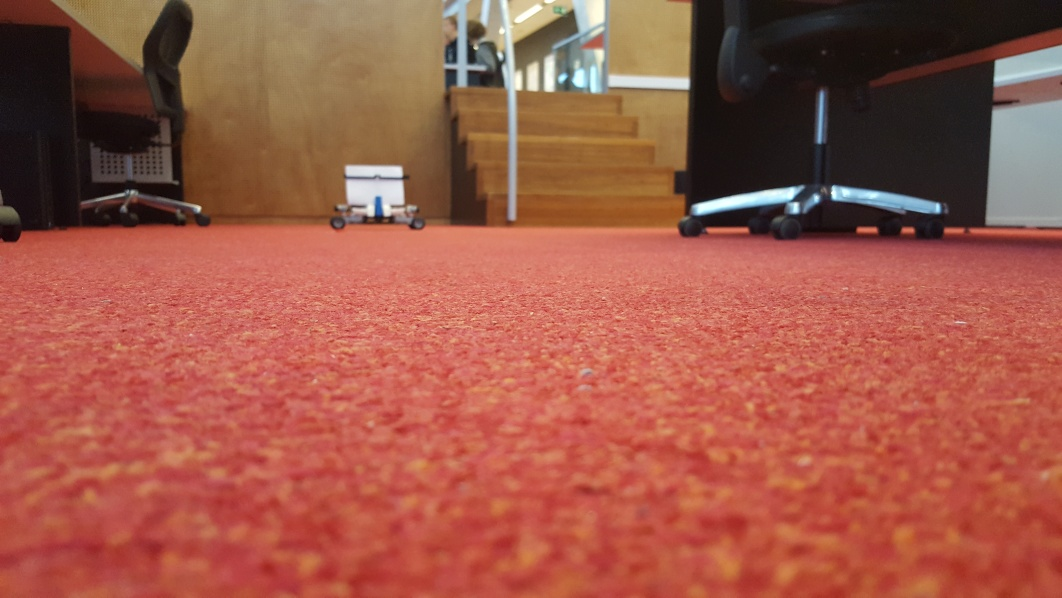car: (331, 163, 427, 230)
